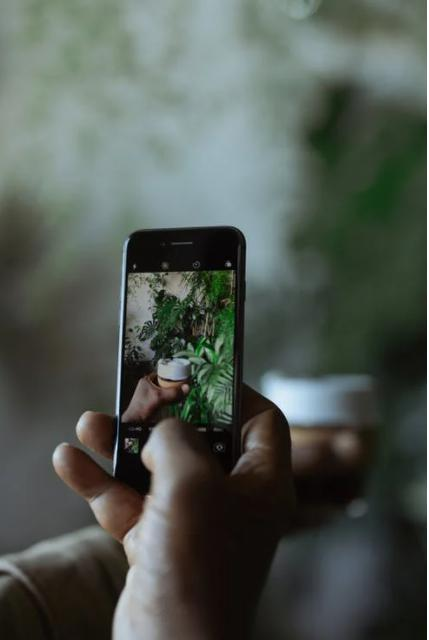mobile: (117, 228, 245, 485)
